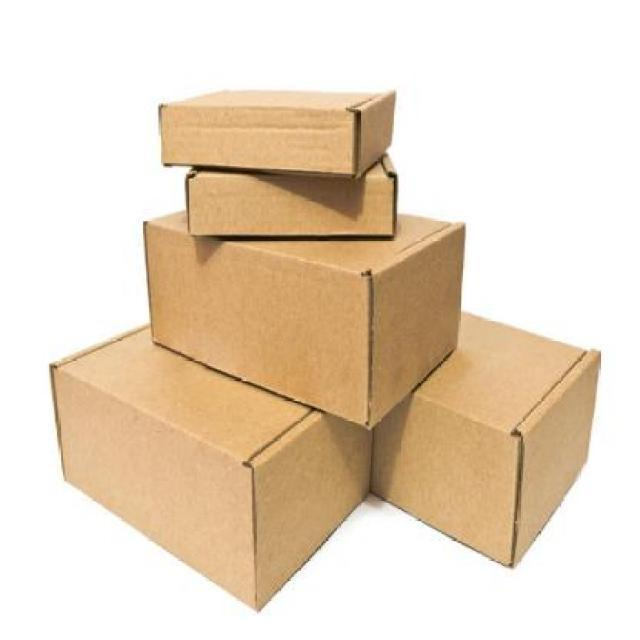box: (47, 326, 370, 607), (145, 202, 470, 434), (372, 307, 604, 568), (158, 85, 404, 179), (180, 163, 403, 240)
